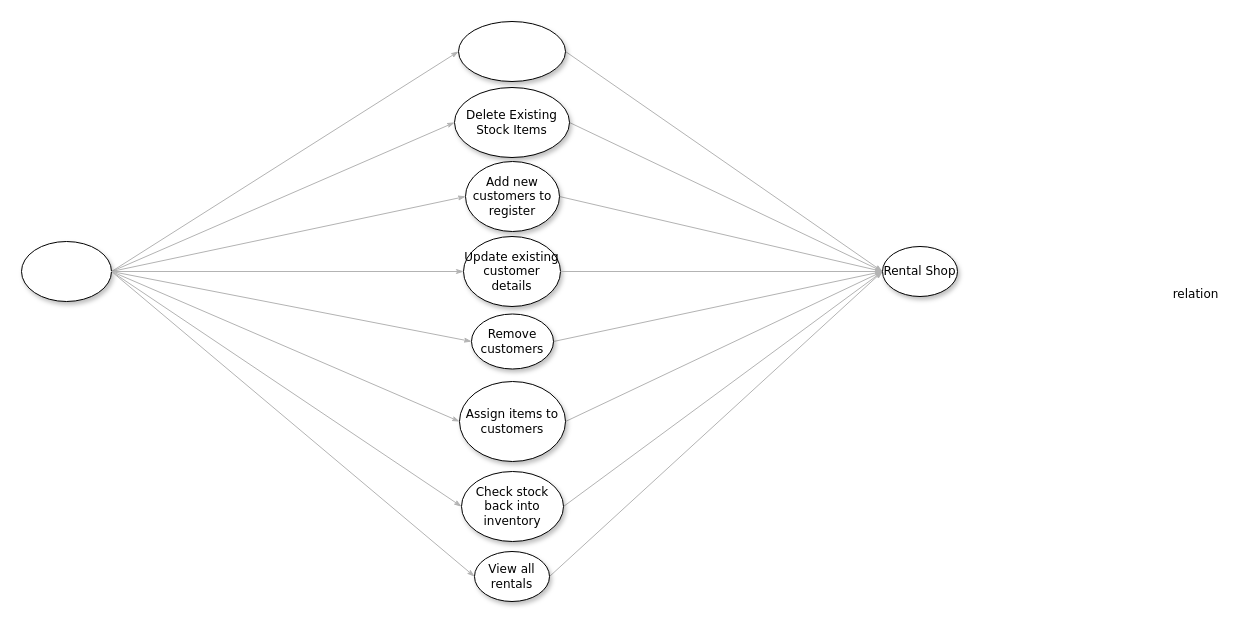
Image size: 1236x626. Some labels were removed from this diagram. The shapes that lost their labels are listed below. From the top down, each one's centre as x and y in pixels, then its label:
At (513,52): "Create New Stock Items".
At (67,272): "Store Manager".
